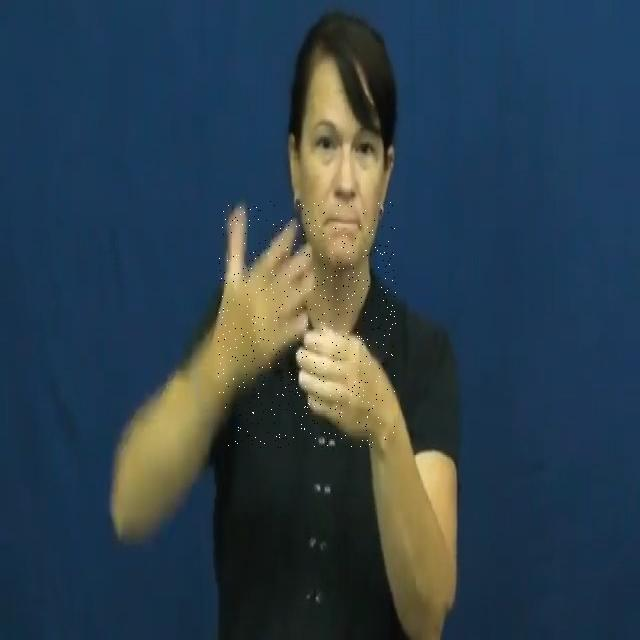lid: (218, 201, 396, 448)
